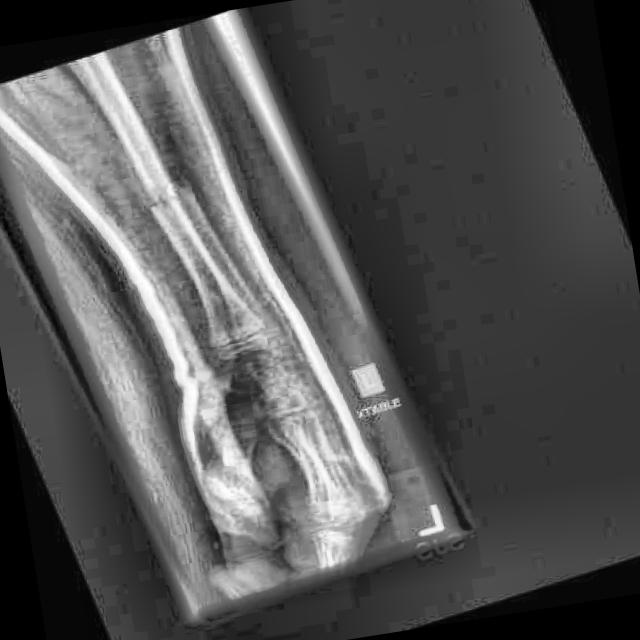forearm fracture: (109, 143, 229, 247)
